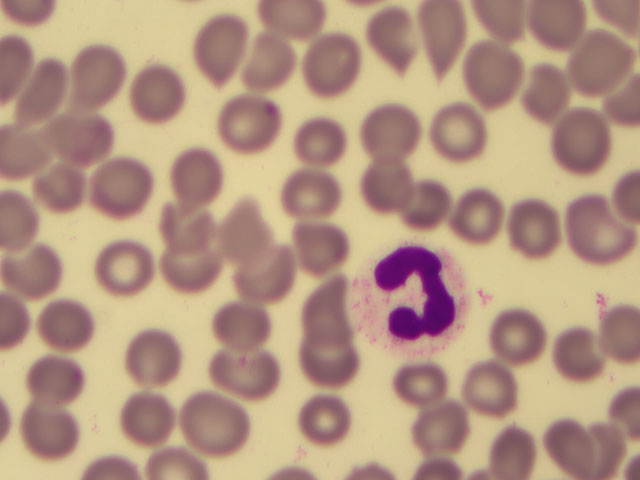RBC: (66, 44, 133, 109), (119, 64, 186, 129), (60, 98, 127, 163), (1, 120, 68, 185), (8, 57, 75, 122), (95, 152, 162, 217), (25, 156, 92, 221), (4, 235, 71, 300), (89, 242, 156, 307), (27, 287, 94, 352), (26, 334, 93, 399), (21, 394, 88, 459), (106, 385, 173, 450), (118, 323, 185, 388), (180, 389, 247, 454), (210, 340, 277, 405), (214, 302, 281, 367), (232, 248, 299, 313), (224, 209, 291, 274), (158, 237, 225, 302), (152, 196, 219, 261), (166, 141, 233, 206), (218, 89, 285, 154), (238, 28, 305, 93), (193, 13, 260, 78), (304, 35, 371, 100), (289, 112, 356, 177), (284, 163, 351, 228), (293, 217, 360, 282), (294, 280, 361, 345), (295, 330, 362, 395), (292, 385, 359, 450), (380, 345, 447, 410), (402, 387, 469, 452), (452, 355, 519, 420), (485, 305, 552, 370), (548, 324, 615, 389), (573, 299, 640, 364), (566, 197, 633, 262), (488, 199, 555, 264), (449, 183, 516, 248), (403, 175, 470, 240), (359, 154, 426, 219), (357, 97, 424, 162), (423, 106, 490, 171), (551, 109, 618, 174), (509, 62, 576, 127), (458, 45, 525, 110), (371, 7, 438, 72), (565, 31, 632, 96), (547, 415, 614, 480), (479, 415, 546, 480), (417, 1, 484, 65)
WBC: (357, 238, 472, 353)
